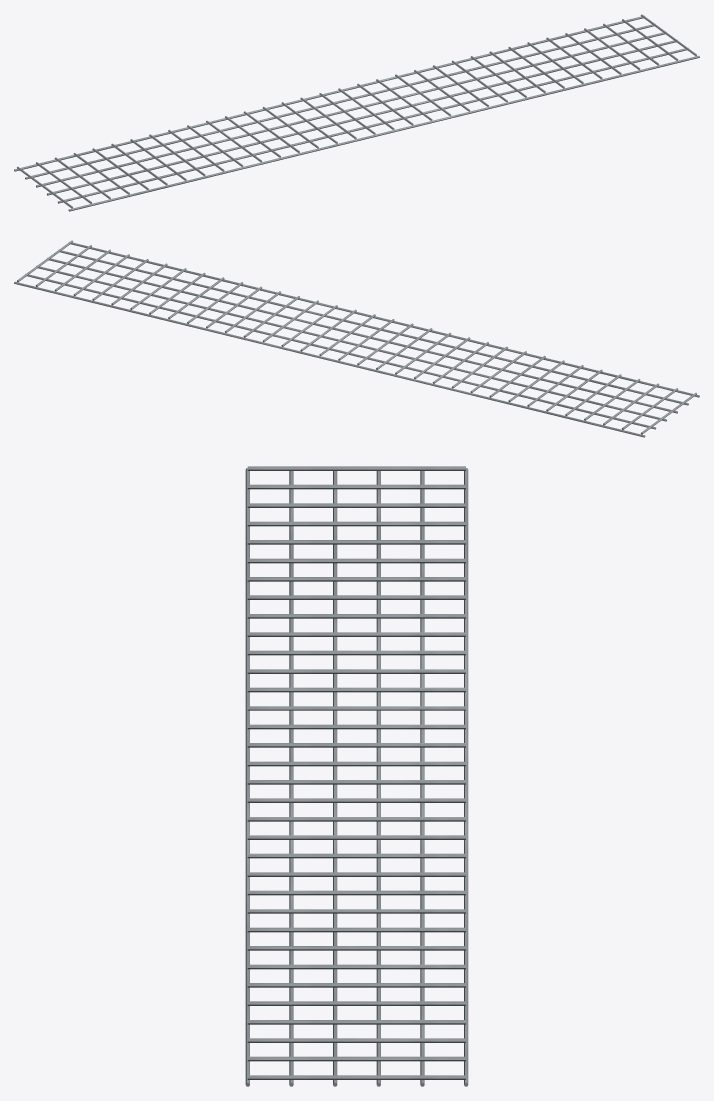
Rendered from ALV-FIX-001_lod1.glb.
3 views of the same model, one above another, from view 1: azimuth 30°, elevation 25°; view 2: azimuth 150°, elevation 25°; view 3: azimuth 270°, elevation 25° (orthographic). The views are drawn at different scales.
Parts seen in each view (by area): view 1: ALV-FIX-001_l0, ALV-FIX-001_l1, ALV-FIX-001_l3, ALV-FIX-001_l5, ALV-FIX-001_l2, ALV-FIX-001_l4; view 2: ALV-FIX-001_l5, ALV-FIX-001_l2, ALV-FIX-001_l4, ALV-FIX-001_l0, ALV-FIX-001_l3, ALV-FIX-001_l1; view 3: ALV-FIX-001_l0, ALV-FIX-001_l5, ALV-FIX-001_l1, ALV-FIX-001_l4, ALV-FIX-001_l2, ALV-FIX-001_l3, ALV-FIX-001_t1, ALV-FIX-001_t3, ALV-FIX-001_t5, ALV-FIX-001_t10, ALV-FIX-001_t12, ALV-FIX-001_t14 (+28 smaller).
Boxes of the visible parts, x1,y1,x2,y2 form: ALV-FIX-001_l0: (68, 55, 699, 211); ALV-FIX-001_l1: (57, 47, 688, 203); ALV-FIX-001_l3: (36, 31, 666, 187); ALV-FIX-001_l5: (14, 16, 643, 171); ALV-FIX-001_l2: (47, 39, 677, 195); ALV-FIX-001_l4: (25, 23, 655, 179); ALV-FIX-001_l5: (14, 281, 645, 437); ALV-FIX-001_l2: (47, 257, 677, 413); ALV-FIX-001_l4: (25, 273, 656, 429); ALV-FIX-001_l0: (70, 242, 699, 397); ALV-FIX-001_l3: (36, 265, 666, 421); ALV-FIX-001_l1: (58, 249, 688, 405); ALV-FIX-001_l0: (245, 468, 249, 1086); ALV-FIX-001_l5: (464, 468, 468, 1086); ALV-FIX-001_l1: (289, 471, 293, 1086); ALV-FIX-001_l4: (420, 471, 424, 1086); ALV-FIX-001_l2: (333, 471, 337, 1086); ALV-FIX-001_l3: (376, 471, 380, 1086); ALV-FIX-001_t1: (247, 484, 465, 489); ALV-FIX-001_t3: (247, 521, 465, 526); ALV-FIX-001_t5: (247, 558, 465, 563); ALV-FIX-001_t10: (247, 650, 465, 655); ALV-FIX-001_t12: (247, 687, 465, 692); ALV-FIX-001_t14: (247, 724, 465, 729).
Bounding box in the file's own units: 0.5 × 0.00299 × 0.0766.
1 material, 1 textured.
